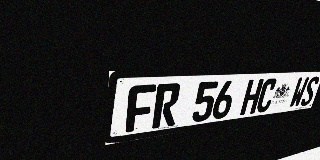5: (191, 81, 219, 123)
6: (211, 80, 237, 120)
C: (255, 78, 278, 113)
F: (125, 84, 156, 133)
H: (239, 79, 264, 116)
R: (152, 83, 181, 129)
S: (299, 76, 320, 107)
W: (288, 77, 310, 108)
